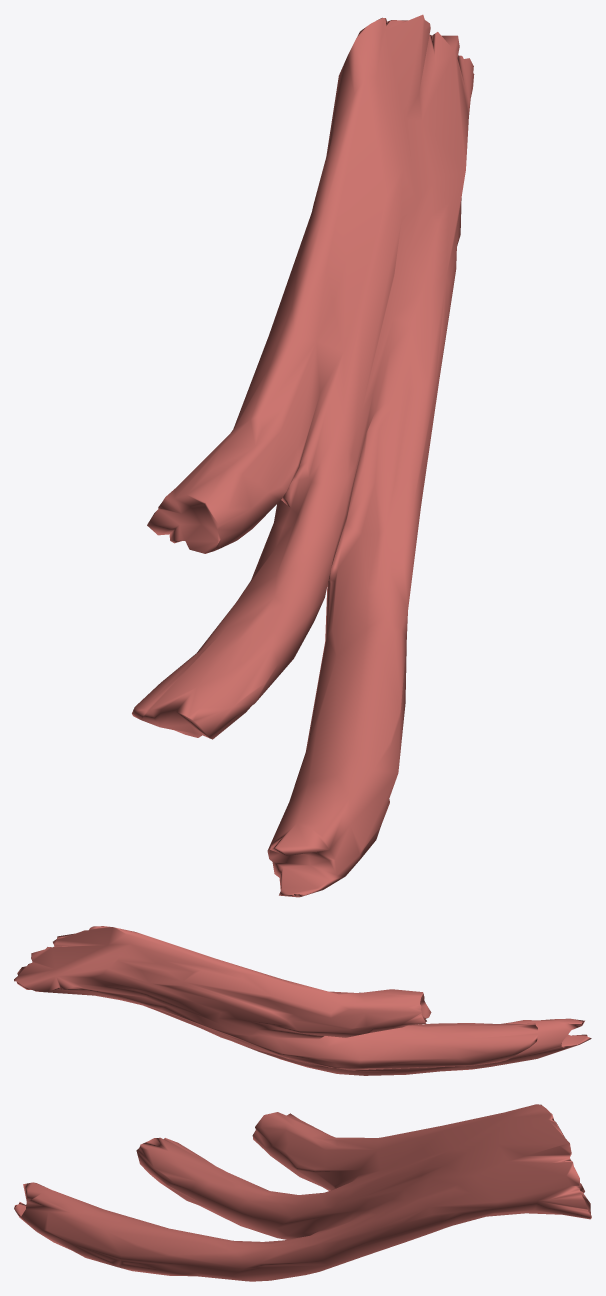
The picture shows the model from 3 angles, top to bottom: view 1: azimuth 30°, elevation 25°; view 2: azimuth 150°, elevation 25°; view 3: azimuth 270°, elevation 25°; orthographic projection. The views are drawn at different scales.
Parts seen in each view (by area): view 1: 左侧后斜角肌; view 2: 左侧后斜角肌; view 3: 左侧后斜角肌.
Boxes of the visible parts, x1,y1,x2,y2 form: 左侧后斜角肌: (132,14,474,897); 左侧后斜角肌: (14,926,591,1075); 左侧后斜角肌: (14,1104,591,1281).
Size of the model in its own units: 0.0651 by 0.0405 by 0.079.
